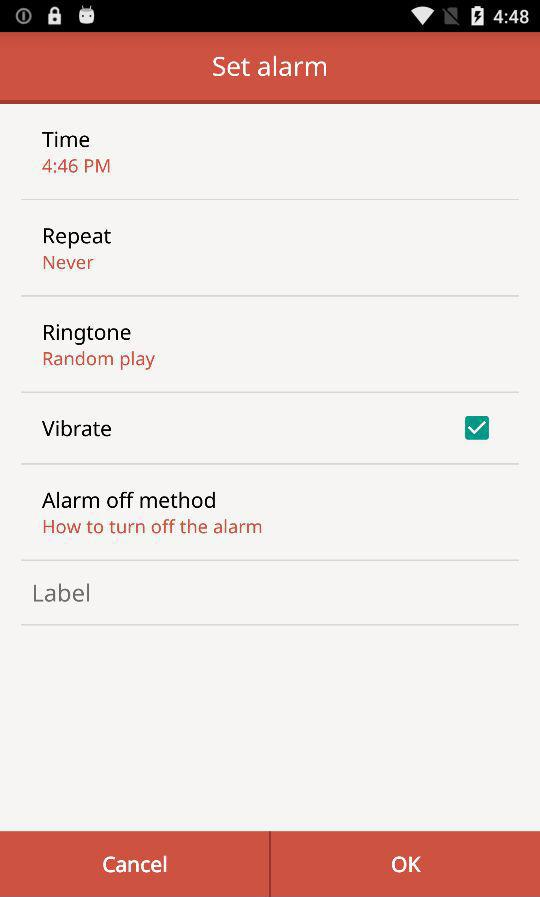CheckedTextView: (42, 416, 490, 441)
Text: (43, 518, 263, 535), (42, 491, 217, 510), (212, 56, 328, 78), (44, 350, 157, 372), (44, 324, 132, 347), (44, 228, 113, 250), (42, 420, 113, 438), (34, 582, 91, 603), (42, 158, 112, 175), (42, 131, 91, 149), (43, 255, 95, 271)
TextButton: (270, 831, 540, 897), (1, 831, 270, 897)
UpperTaskBar: (1, 1, 540, 33)
